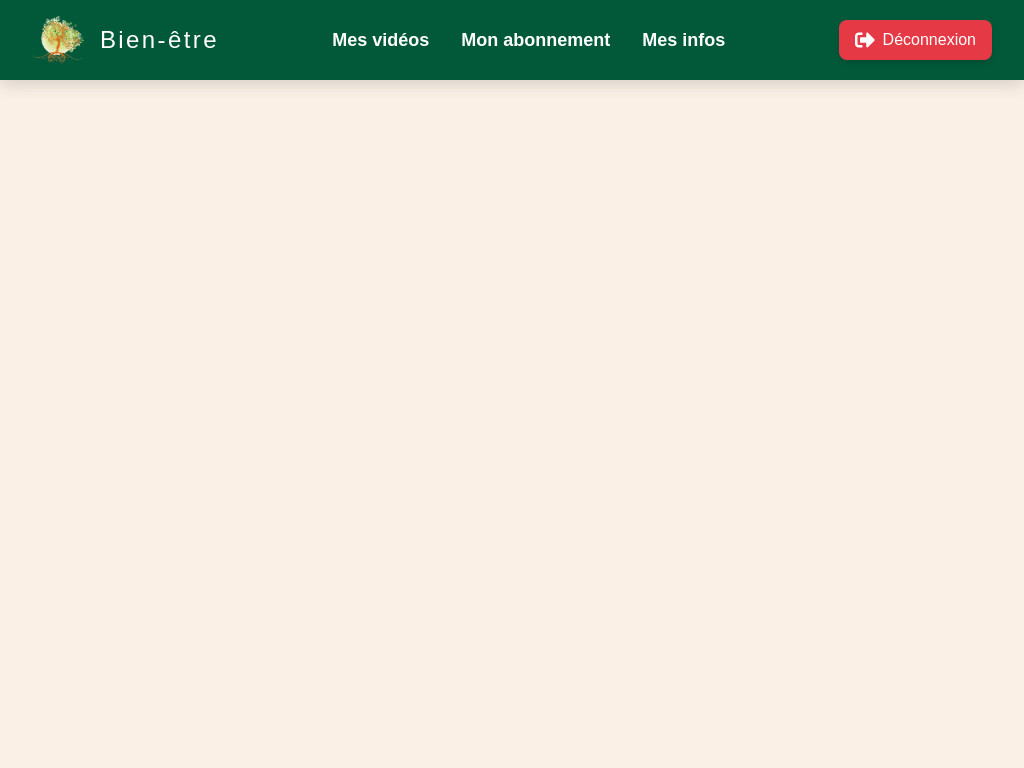
Test: Navbar › ferme la modale quand on clique sur "Annuler"
The width and height of the screenshot is (1024, 768).
What coordinates should you click on to do the following:
click the button "Déconnexion"
I would click on:
 (915, 40)
Its box is [839,20,992,60].
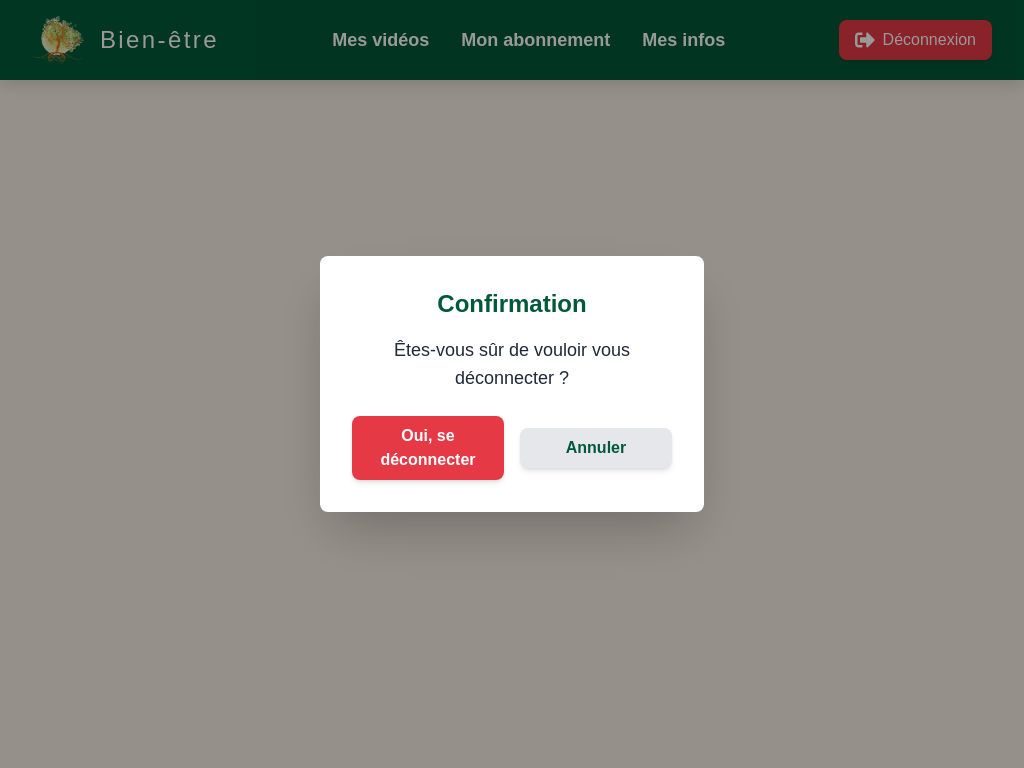
What coordinates should you click on to do the following:
click the button "Annuler"
I would click on:
 (596, 448)
Its box is [520,428,672,468].
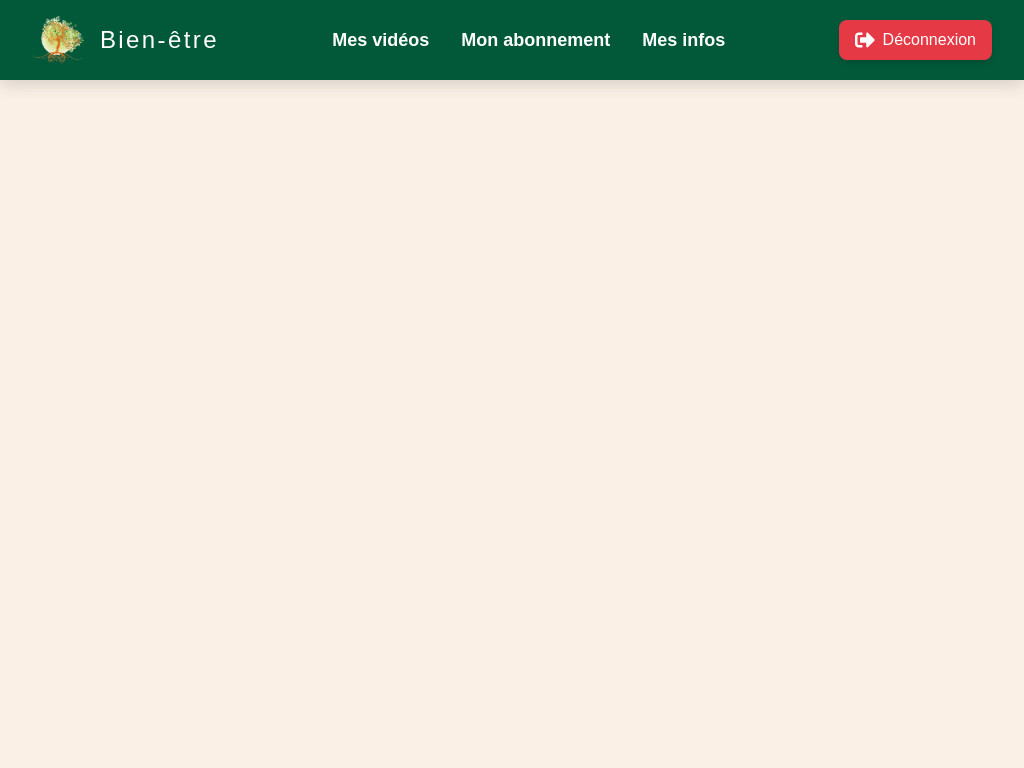
Expected: the text "Êtes-vous sûr de vouloir vous déconnecter ?" is gone
